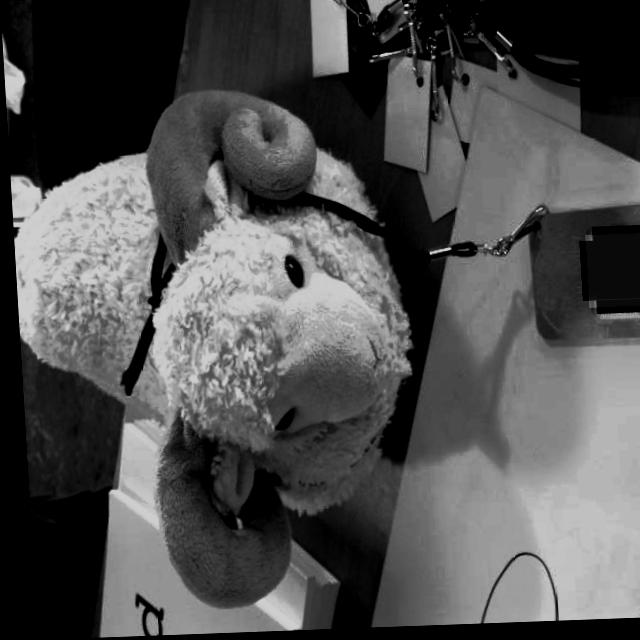qr_code: (582, 236, 640, 311)
